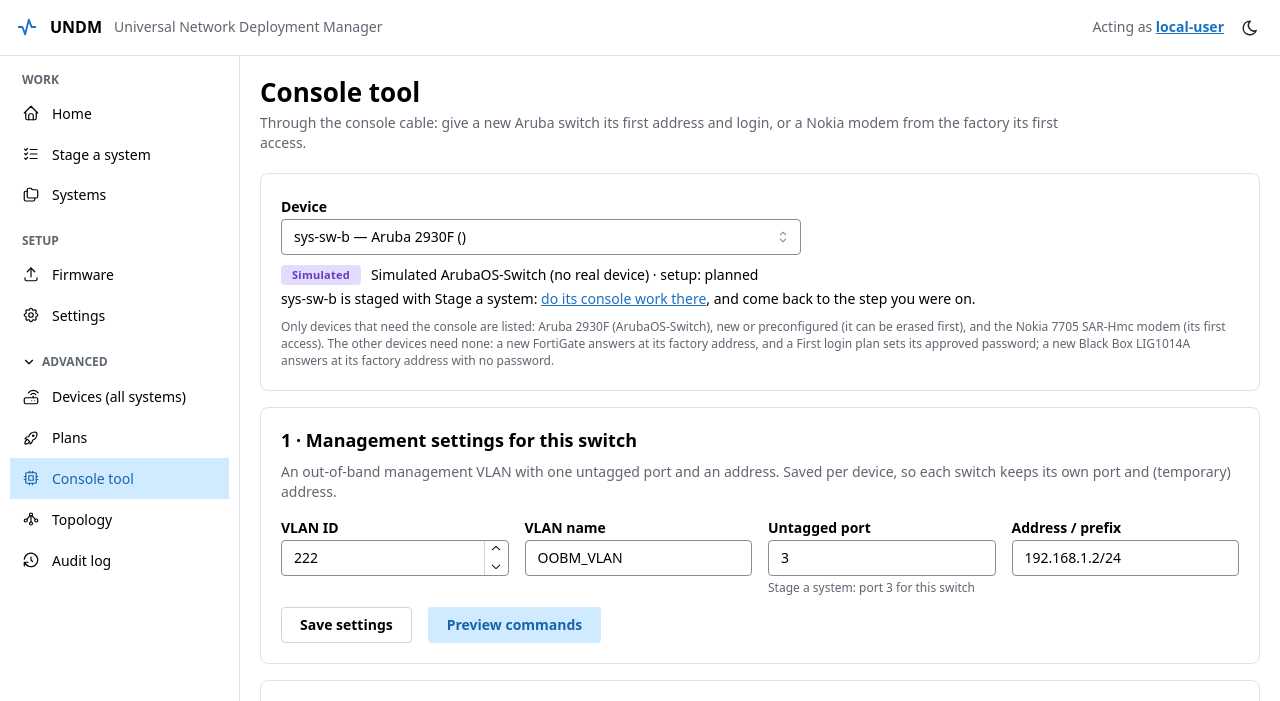
Test: application shell › console setup starts from the port and address of the switch's wizard role
Expected: the field showing "192.168.1.2/24" is shown, [1012,540,1239,576]
Expected: the text "Stage a system: port 3 for this switch" is shown, [768,581,996,595]
Step 1. Replace the text in the field labelled "Untagged port" with "83" → (882, 558), box [768,540,996,576]
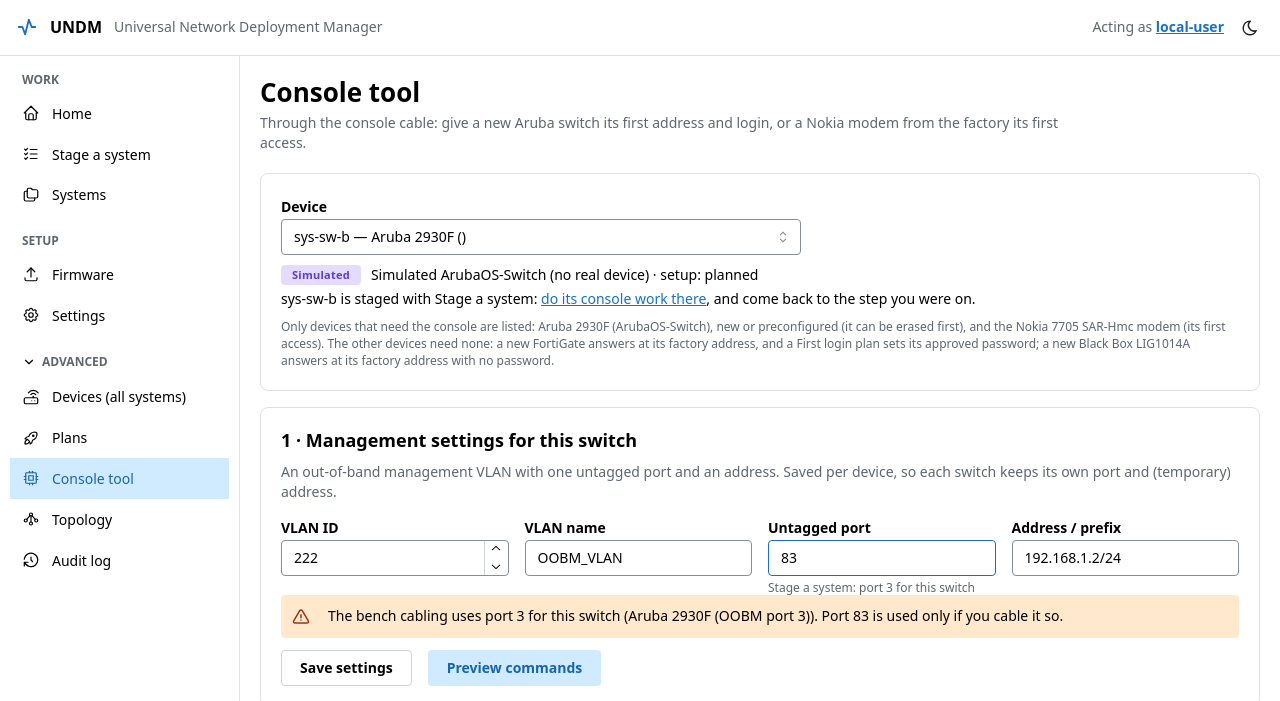
Result: the text "The bench cabling uses port 3 for this switch" is shown at [328,606,1063,625]
